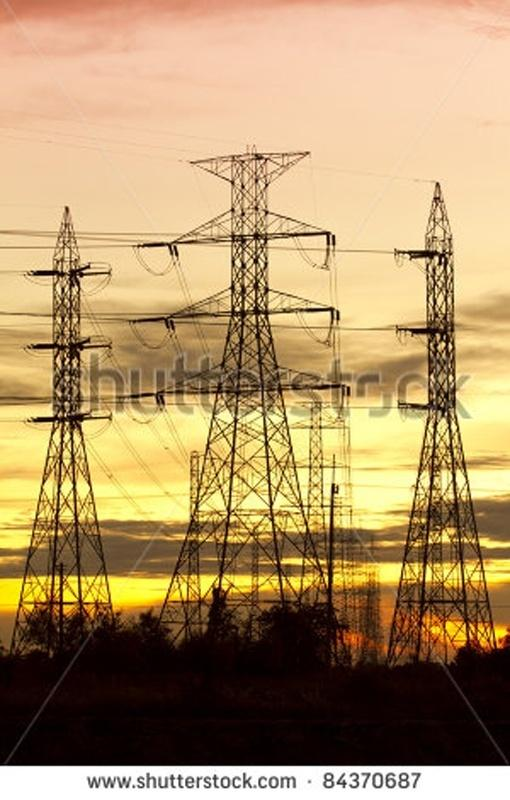power_tower: (176, 147, 339, 657), (399, 169, 501, 668), (13, 203, 123, 660)
